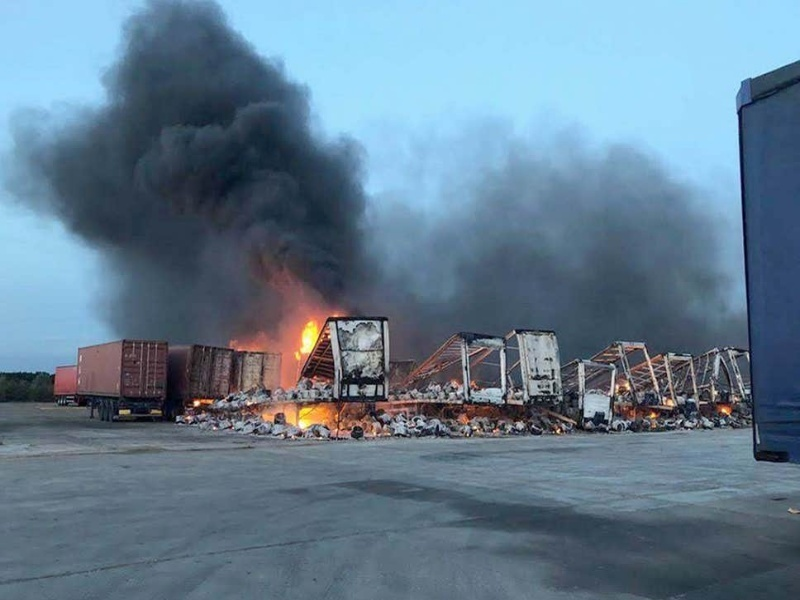smoke: (61, 2, 345, 310)
